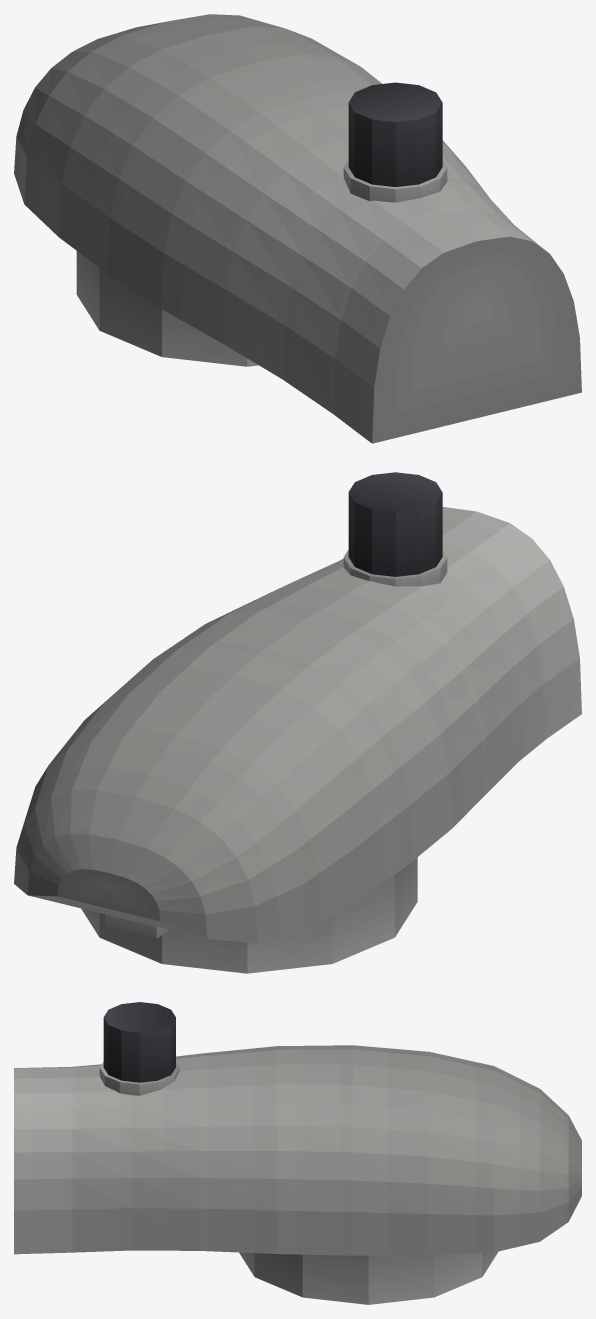
The model's file is streetlight_gem400r1gs.obj.
3 views of the same model, one above another, from view 1: azimuth 30°, elevation 25°; view 2: azimuth 150°, elevation 25°; view 3: azimuth 270°, elevation 25° (orthographic). The views are drawn at different scales.
Parts seen in each view (by area): view 1: fixture; view 2: fixture; view 3: fixture.
Boxes of the visible parts, <box> form: fixture: <box>14,14,581,443</box>; fixture: <box>14,472,581,973</box>; fixture: <box>14,1002,581,1304</box>.
Bounding box in the file's own units: 0.4375 × 0.476 × 0.9312.
